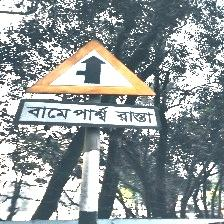Side-road-left: (17, 39, 159, 130)
